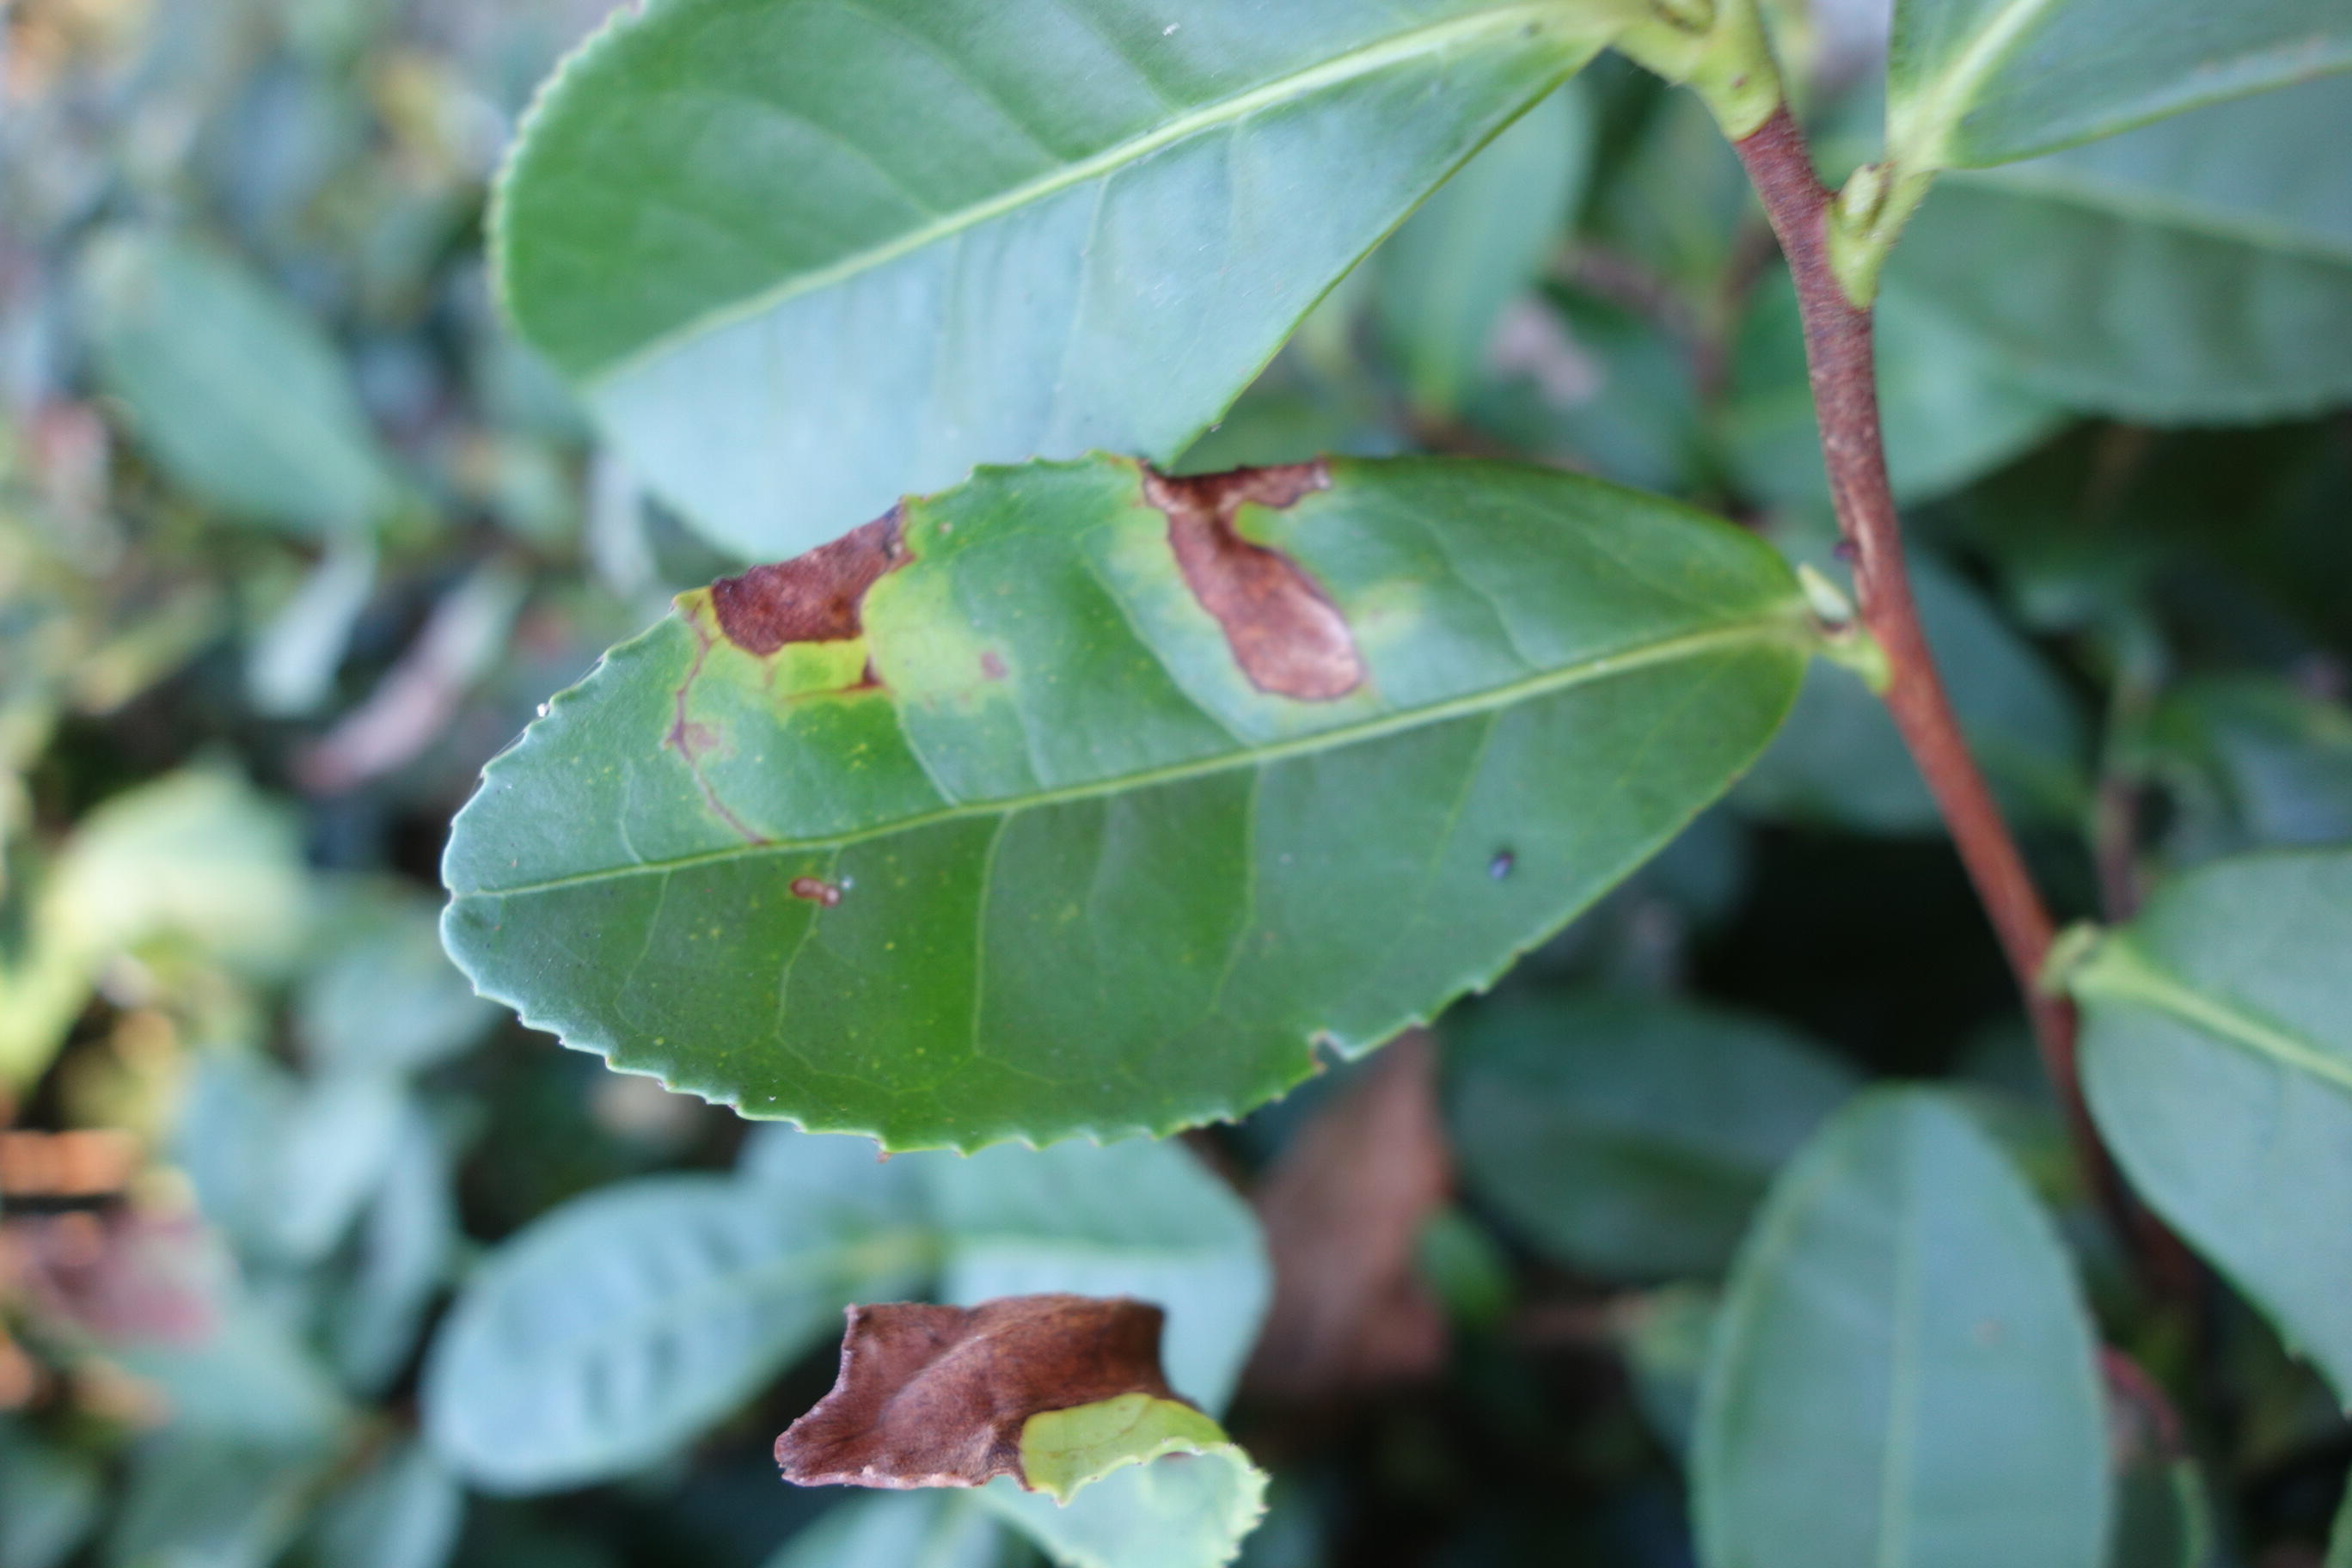tanju_high: (441, 453, 1808, 1158), (773, 1295, 1269, 1563)
